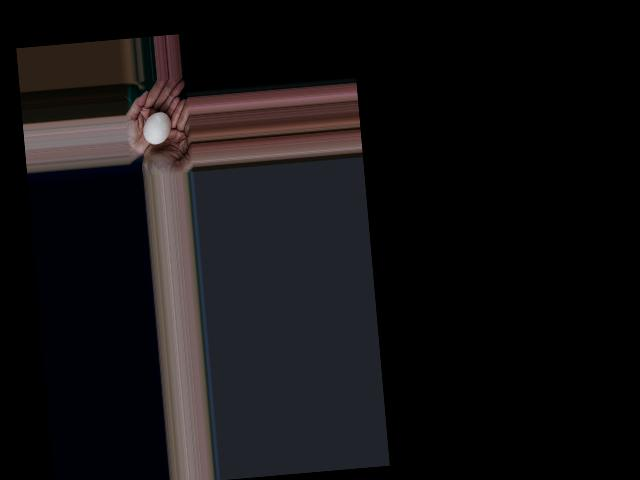egg: (142, 110, 172, 144)
